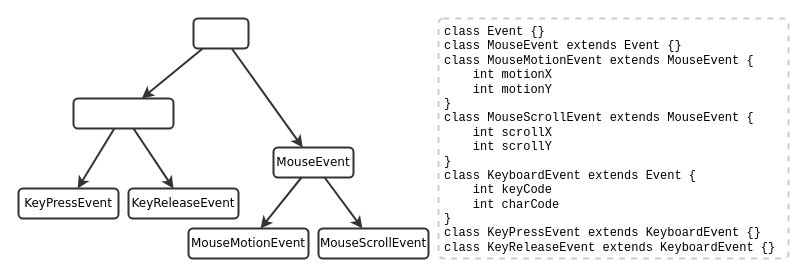
The diagram is 806 pixels wide and 276 high, and some of its shapes have lost their labels. Here are the shapes that lost their labels. From the top down, the centre of each, then its label:
At (220,33): "Event".
At (123,113): "KeyboardEvent".
